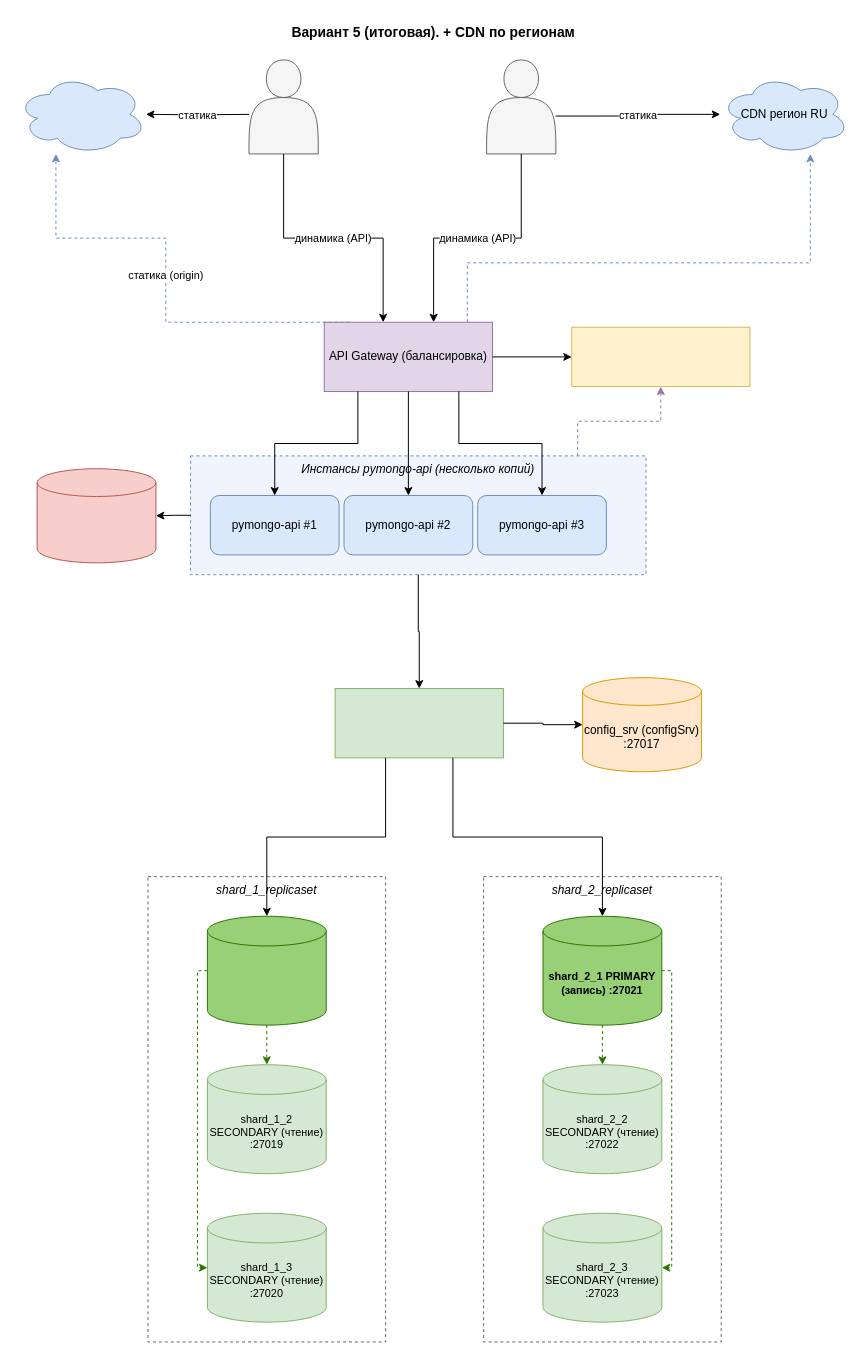
Image size: 866x1359. Some labels were removed from this diagram. Each missing label, with the centre of its shape:
CDN регион EU: the point at 81,114
Consul (Service Discovery): the point at 660,356
mongos_router (mongos) :27024: the point at 418,723
redis (кеш) :6379: the point at 96,515
shard_1_1 PRIMARY (запись) :27018: the point at 266,970
Пользователи регион EU: the point at 283,106
Пользователи регион RU: the point at 521,106
